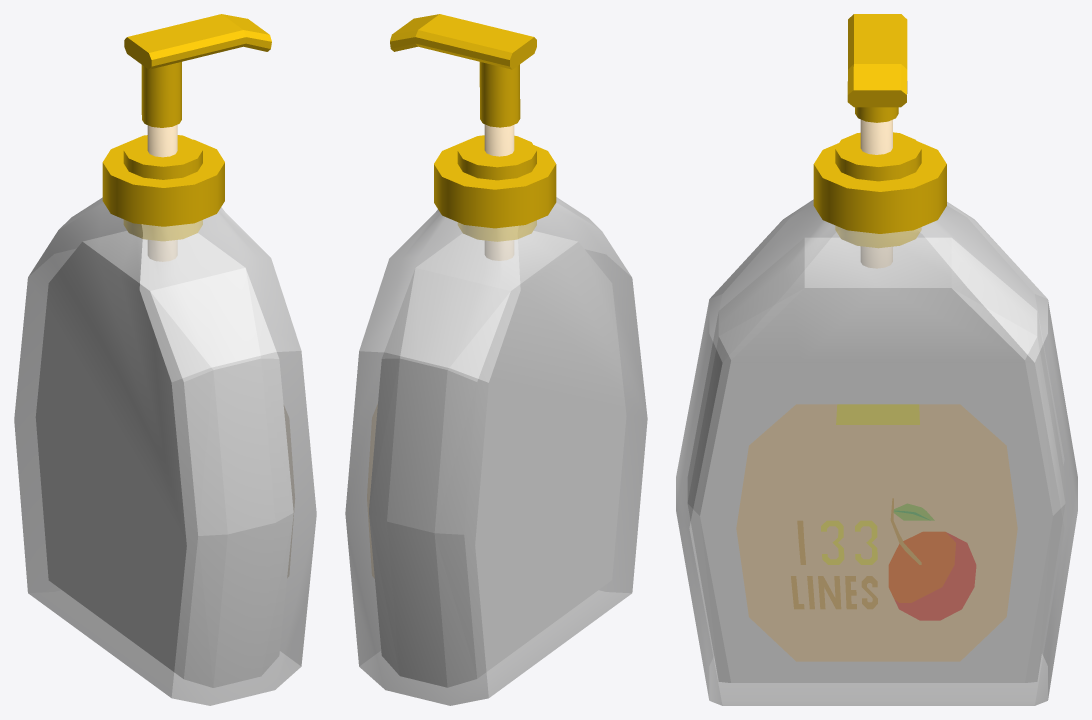
Rendered from Liquid_Soap.fbx.
3 views of the same model, side by side, from view 1: azimuth 30°, elevation 25°; view 2: azimuth 150°, elevation 25°; view 3: azimuth 270°, elevation 25° (orthographic). The views are drawn at different scales.
Parts seen in each view (by area): view 1: mesh_914835318, mesh_1782481149, mesh_1083067694, mesh_1166676771, mesh_511731069; view 2: mesh_914835318, mesh_1782481149, mesh_1083067694, mesh_1166676771, mesh_511731069; view 3: mesh_914835318, mesh_1782481149, mesh_1083067694, mesh_1166676771, mesh_511731069.
Boxes of the visible parts, <box> form: mesh_914835318: <box>14,197,316,705</box>; mesh_1782481149: <box>36,231,293,687</box>; mesh_1083067694: <box>102,135,224,240</box>; mesh_1166676771: <box>124,14,271,127</box>; mesh_511731069: <box>147,124,177,261</box>; mesh_914835318: <box>345,197,647,705</box>; mesh_1782481149: <box>369,231,626,687</box>; mesh_1083067694: <box>434,135,556,241</box>; mesh_1166676771: <box>390,14,536,127</box>; mesh_511731069: <box>484,124,514,260</box>; mesh_914835318: <box>676,199,1077,705</box>; mesh_1782481149: <box>688,238,1065,682</box>; mesh_1083067694: <box>813,132,946,247</box>; mesh_1166676771: <box>847,14,907,122</box>; mesh_511731069: <box>860,119,892,268</box>.
Size of the model in its own units: 75.28 by 272 by 151.
